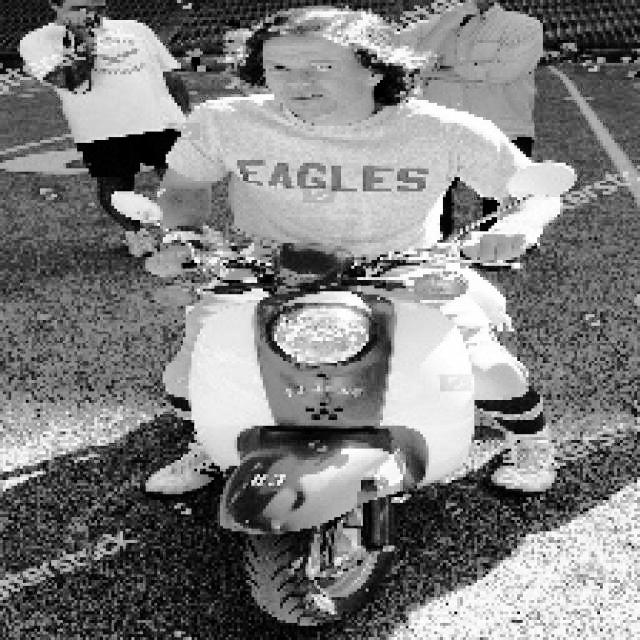Bike: (164, 244, 492, 626)
